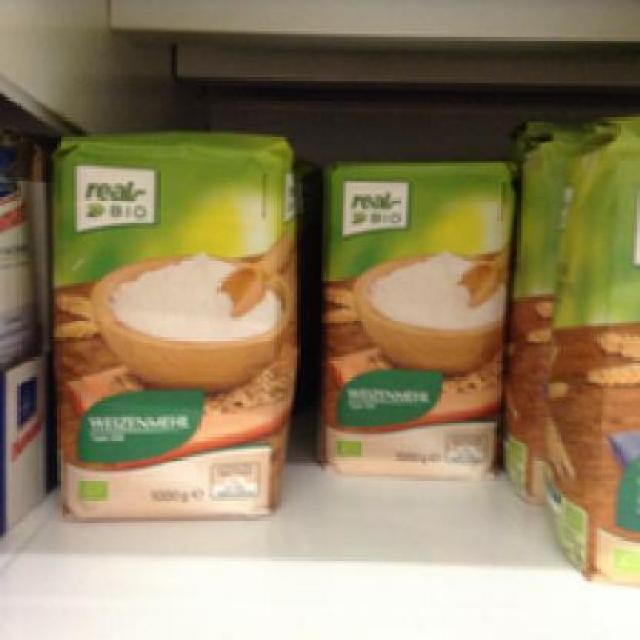Flour: (42, 129, 298, 520), (314, 151, 514, 480)
